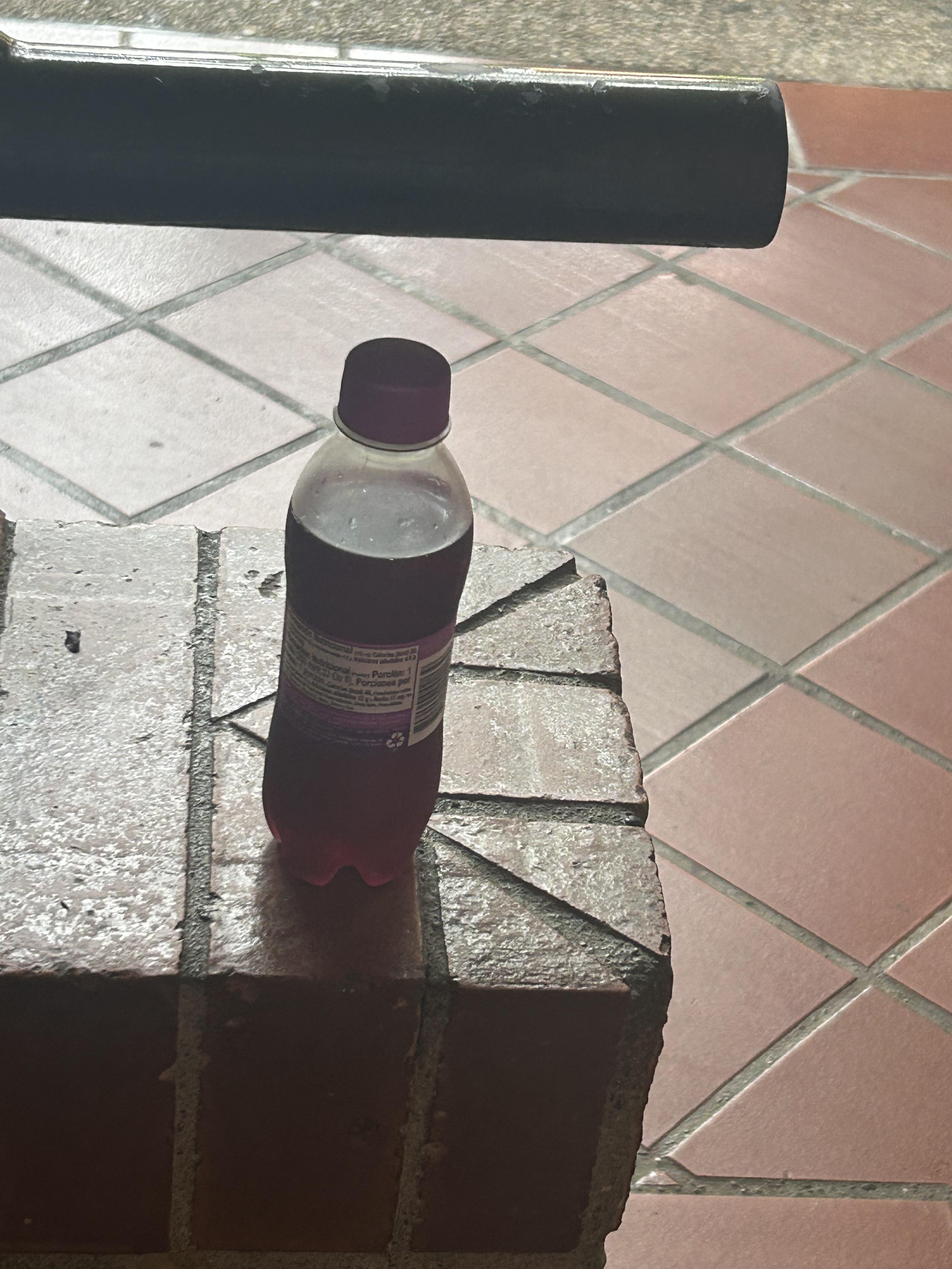uva: (263, 338, 473, 886)
